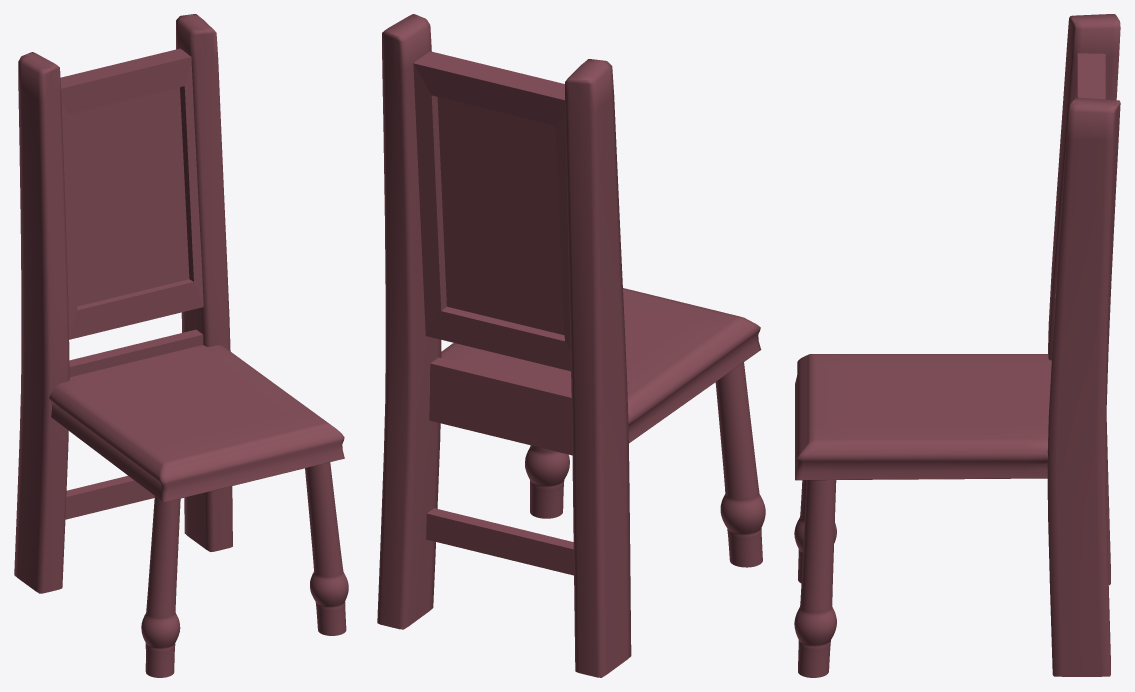
File: BasicChairAsset.fbx
The picture shows the model from 3 angles, left to right: view 1: azimuth 30°, elevation 25°; view 2: azimuth 150°, elevation 25°; view 3: azimuth 270°, elevation 25°; orthographic projection. The views are drawn at different scales.
Visible parts, largest first — view 1: trn_ChairSimple.004; view 2: trn_ChairSimple.004; view 3: trn_ChairSimple.004.
Boxes of the visible parts, x1,y1,x2,y2 form: trn_ChairSimple.004: (14, 14, 348, 677); trn_ChairSimple.004: (377, 14, 765, 677); trn_ChairSimple.004: (794, 14, 1120, 677).
Size of the model in its own units: 67.72 by 86.32 by 165.
